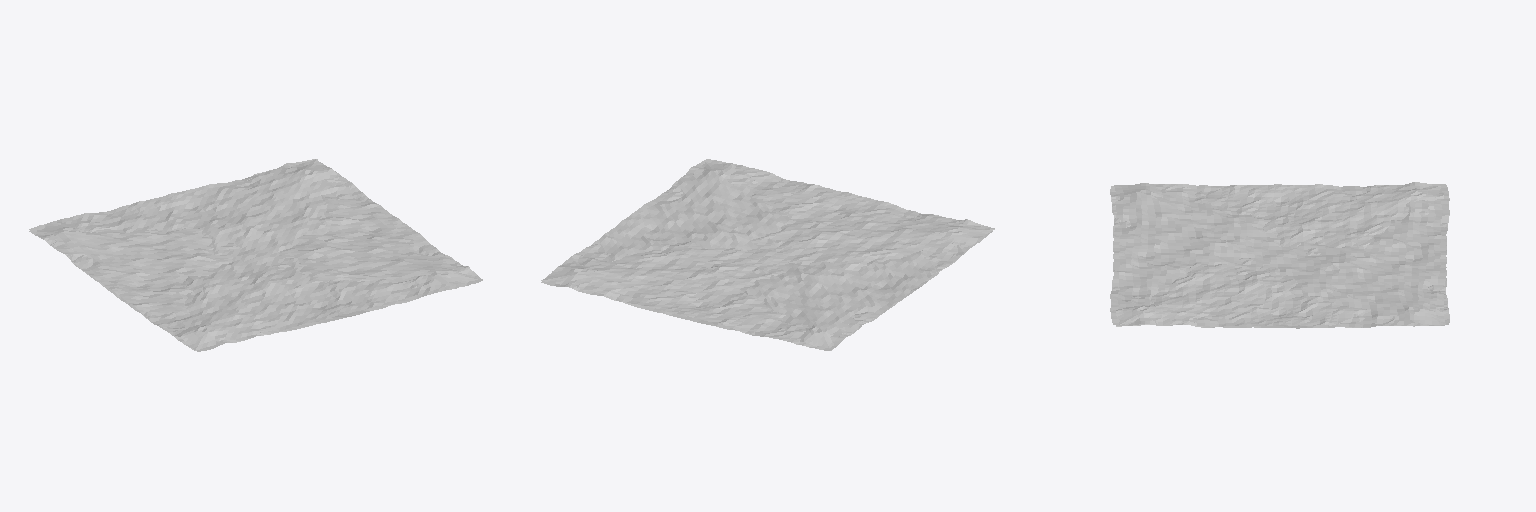
Rendered from map.obj.
The picture shows the model from 3 angles: view 1: azimuth 30°, elevation 25°; view 2: azimuth 150°, elevation 25°; view 3: azimuth 270°, elevation 25°; orthographic projection.
Visible parts, largest first — view 1: Plane, Plane.001; view 2: Plane, Plane.001; view 3: Plane, Plane.001.
Part boxes in pixels (left/top/right/bottom): Plane: left=29, top=159, right=482, bottom=350; Plane.001: left=29, top=159, right=482, bottom=351; Plane: left=541, top=159, right=994, bottom=350; Plane.001: left=541, top=162, right=994, bottom=350; Plane: left=1110, top=182, right=1449, bottom=328; Plane.001: left=1110, top=184, right=1449, bottom=327.
Bounding box in the file's own units: 8345 × 296 × 8416.